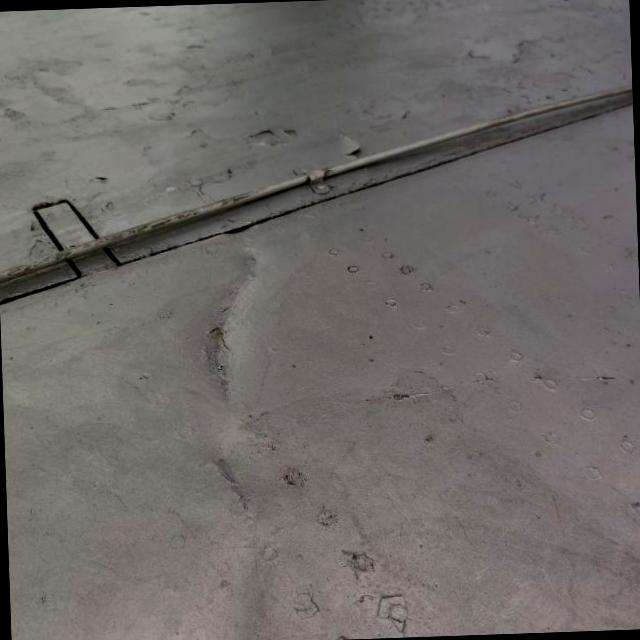dent: (167, 235, 304, 429)
